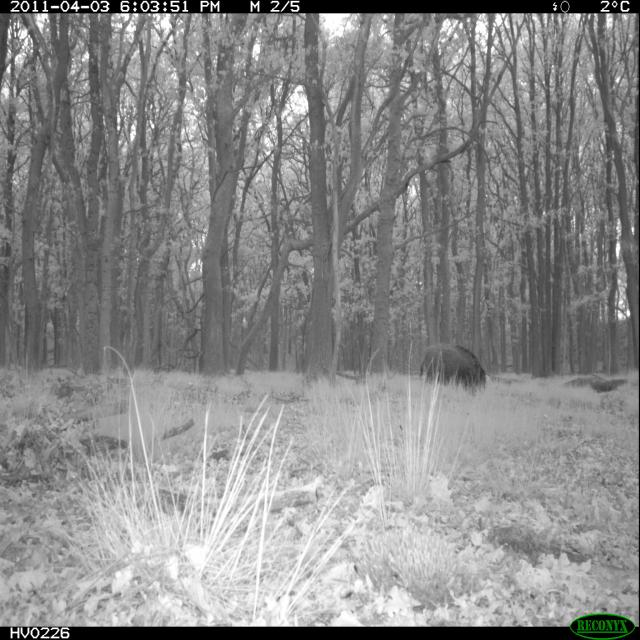boar: (400, 308, 507, 408)
